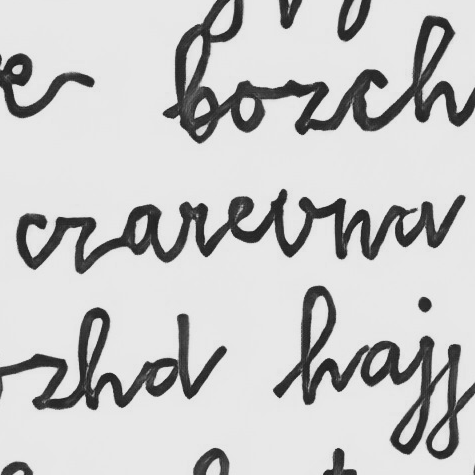a: (390, 197, 436, 251), (120, 203, 165, 258)
c: (12, 210, 51, 271)
e: (221, 192, 257, 248)
n: (328, 194, 375, 264)
r: (172, 199, 214, 259)
v: (266, 192, 317, 259)
z: (54, 214, 103, 275)
